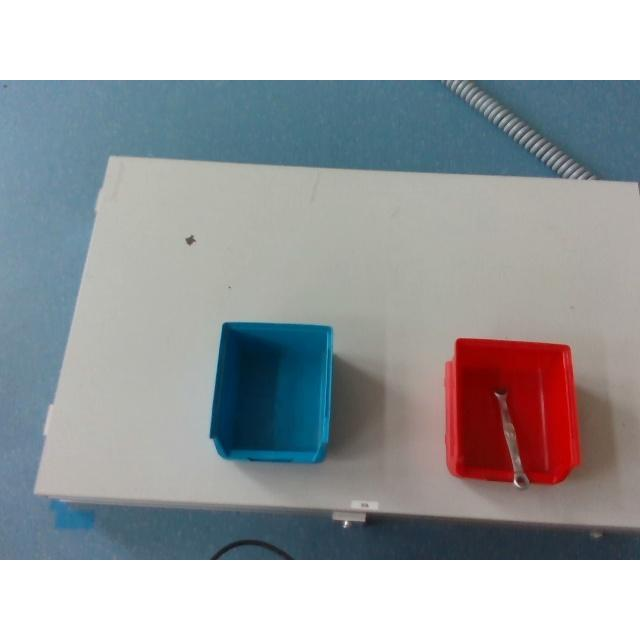Wrench: (492, 388, 532, 488)
container_box_blue: (207, 321, 333, 465)
container_box_red: (442, 337, 582, 488)
